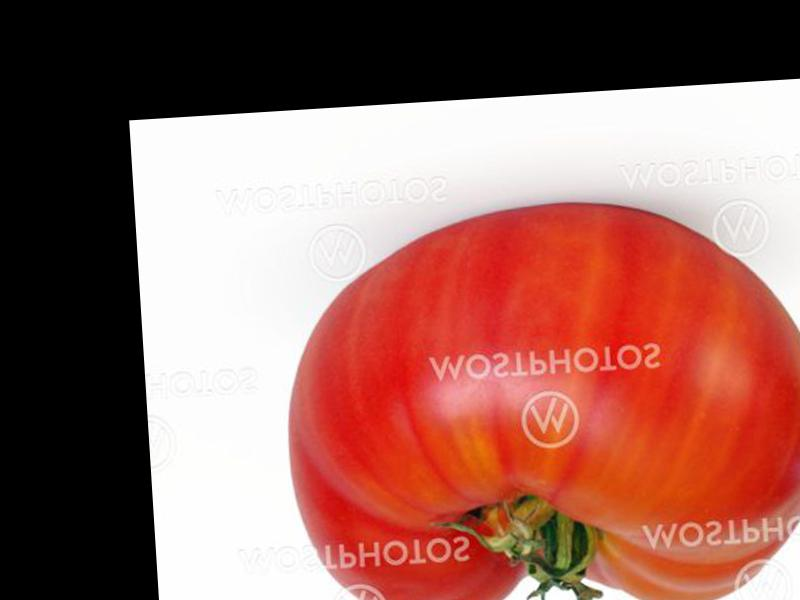Tomato: (277, 190, 800, 600)
